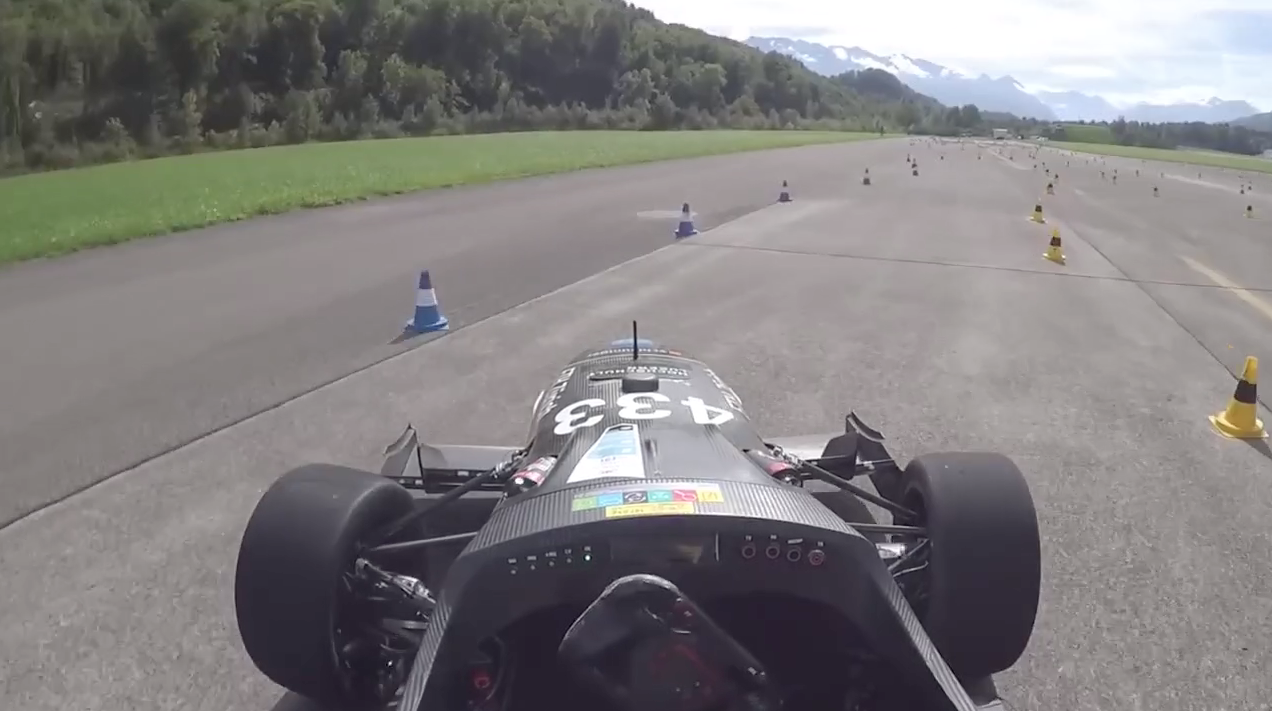lcone: (400, 268, 452, 340), (671, 200, 703, 243), (773, 176, 797, 206)
rcone: (1200, 348, 1271, 447), (1038, 222, 1071, 268), (1024, 196, 1048, 227)
